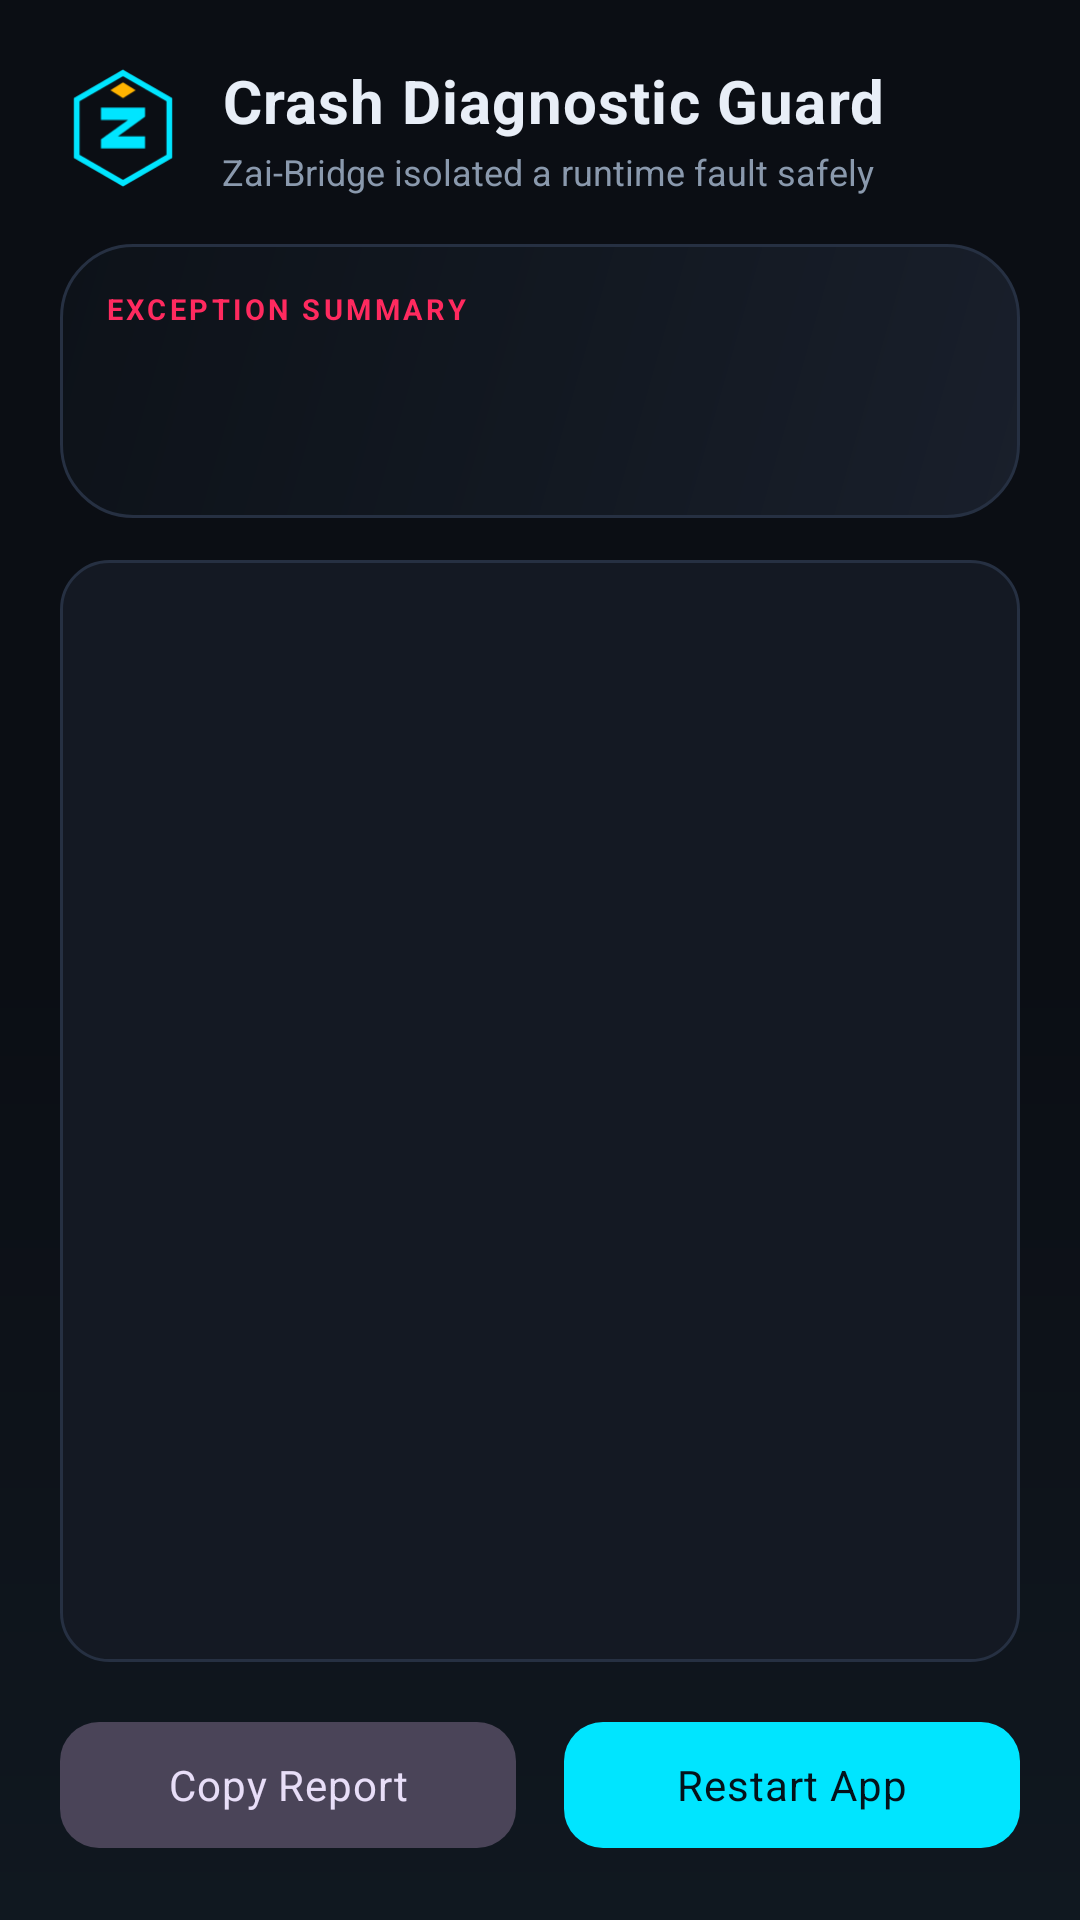

Screen size 1080w x 1920h. Icon name, then its box in pixels as (x1, y1, x2, y2):
emblem: (73, 69, 173, 187)
